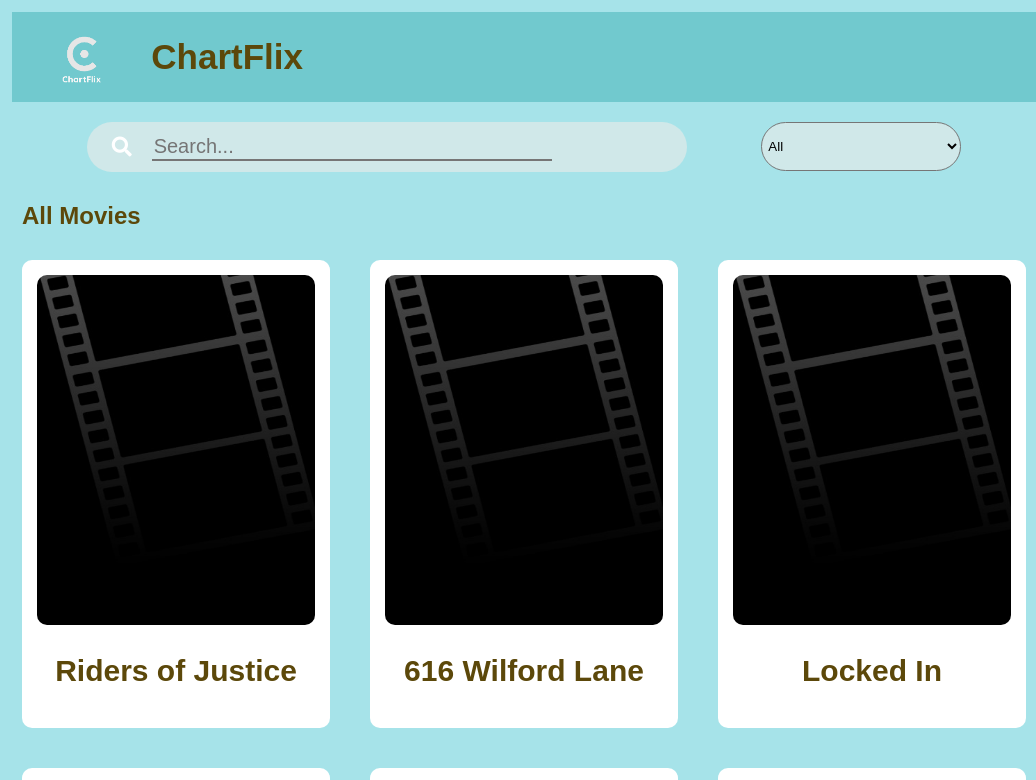
Test: Error handling › Filter movie error › should say no movies found if search doesn't match
Type "asd" into the search field named "search" at (352, 148), box [152, 134, 552, 161]
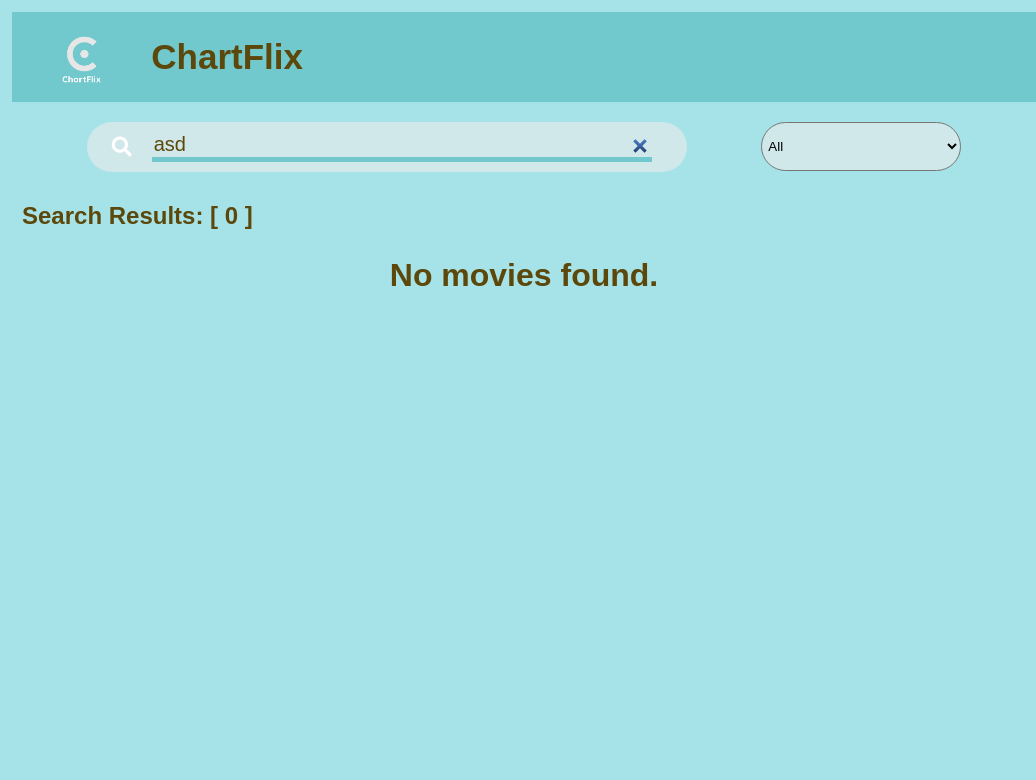
Result: the heading with class "err-msg" reads "No movies found." at [390, 257, 659, 293]
